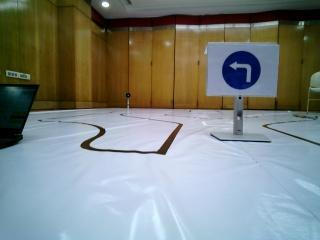left: (216, 43, 266, 92)
